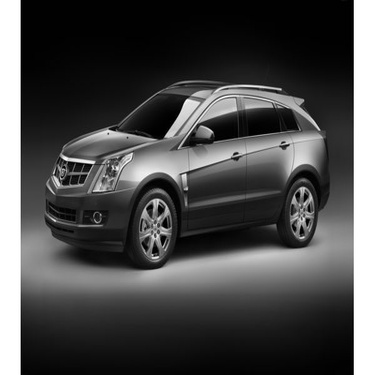car: (39, 74, 333, 270)
